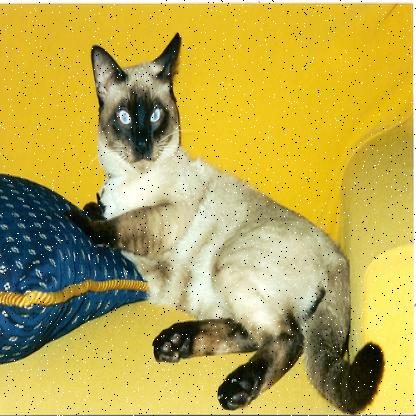cat: (72, 26, 389, 413)
